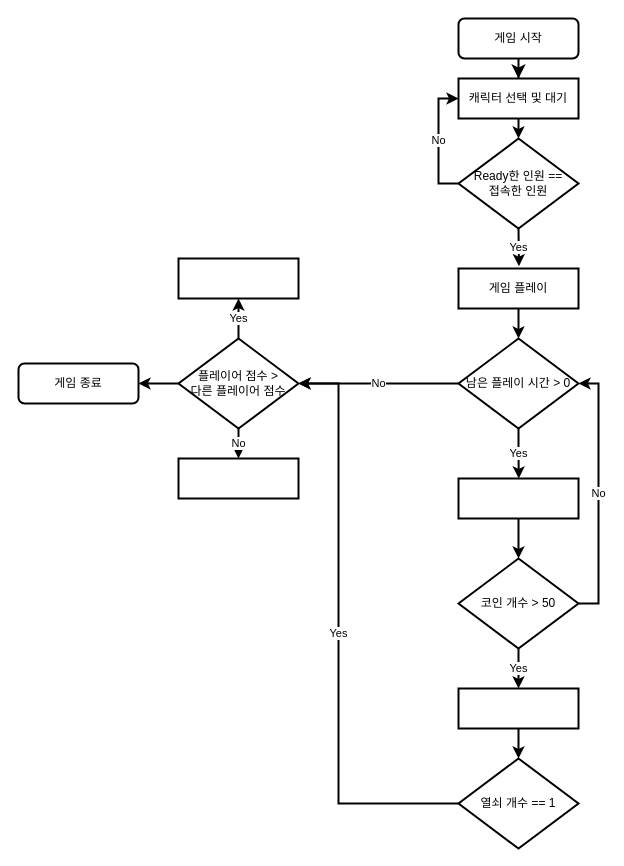
Some shapes in this 624 by 866 pixel diagram are drawn without their labels. Each missing label, with the centre of its shape:
"열쇠 등장" goes at point 518,708.
"코인 수집 몬스터 처치" goes at point 518,498.
"플레이어 승리" goes at point 238,278.
"플레이어 패배" goes at point 238,478.
